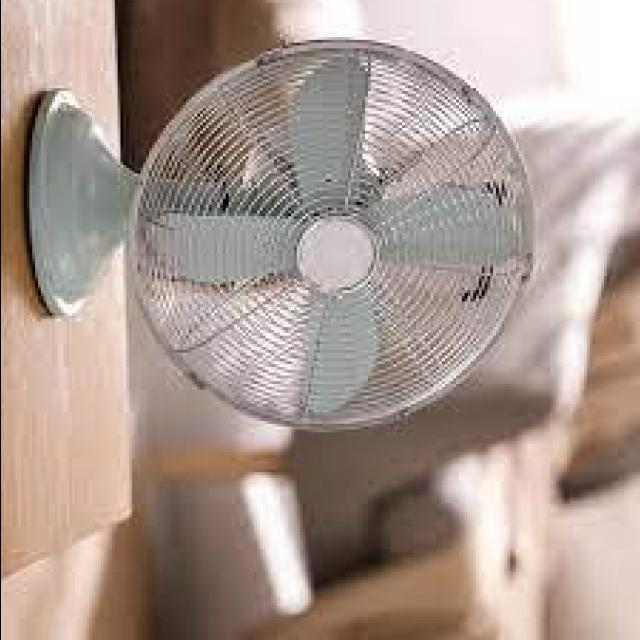fan: (25, 38, 529, 450)
